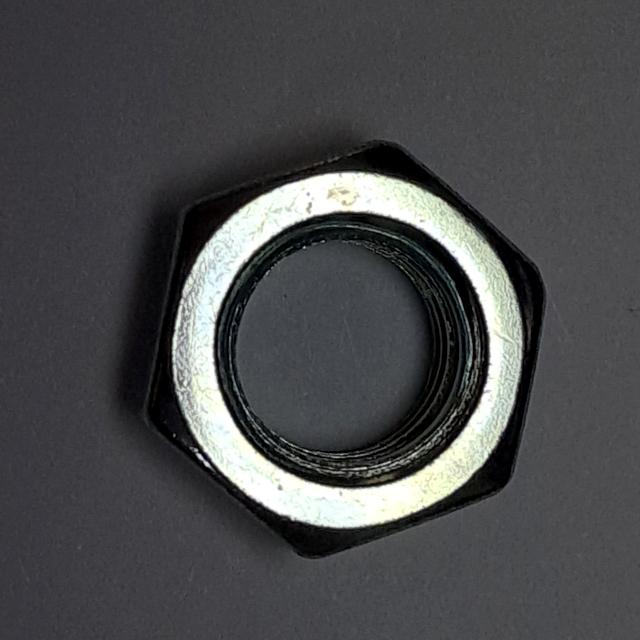Excellent: (121, 126, 561, 579)
